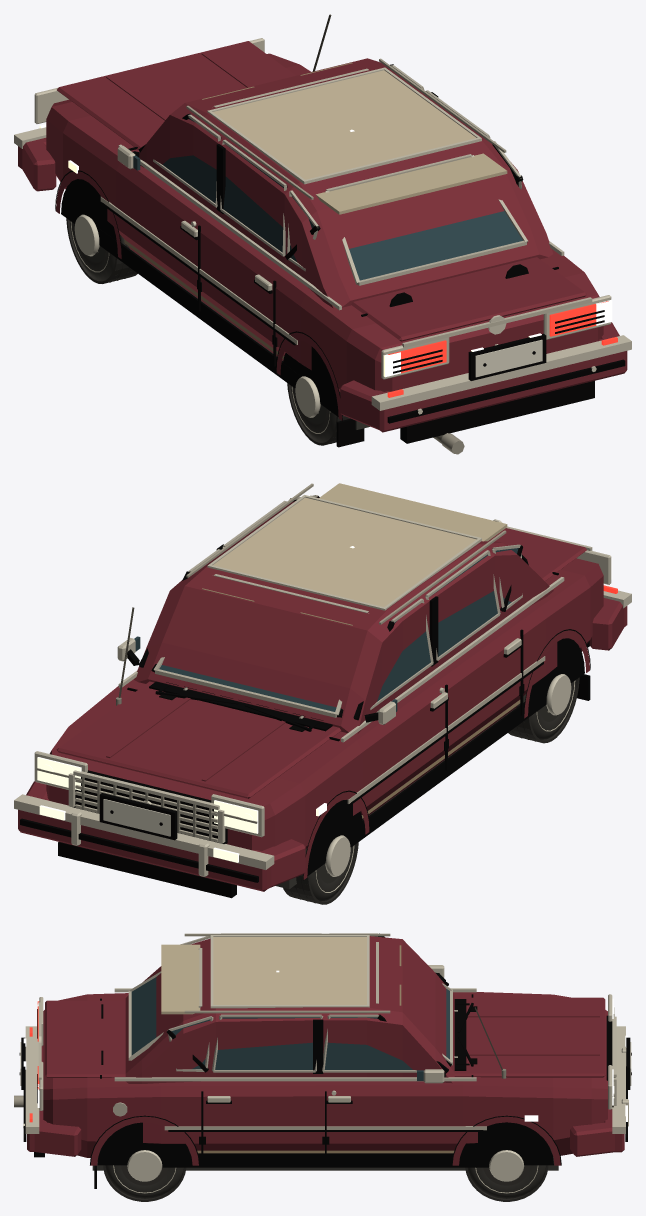
File: car.glb
3 views of the same model, one above another, from view 1: azimuth 30°, elevation 25°; view 2: azimuth 150°, elevation 25°; view 3: azimuth 270°, elevation 25° (orthographic). The views are drawn at different scales.
Parts seen in each view (by area): view 1: Car_Paint, Car_Chrome, Car_Trim, Car_Glass, Car_Interior, Wheel_FL, Wheel_RL, Car_LightR, Car_Plate, Car_LightW; view 2: Car_Paint, Car_Chrome, Car_Trim, Car_Glass, Car_Interior, Wheel_FL, Car_LightW, Wheel_RL, Car_Plate; view 3: Car_Paint, Car_Trim, Car_Chrome, Car_Glass, Car_Interior, Wheel_FR, Wheel_RR, Car_Under, Car_LightW.
Part boxes in pixels (left/top/right/bottom): Car_Paint: left=18, top=41, right=627, bottom=432; Car_Chrome: left=14, top=38, right=631, bottom=454; Car_Trim: left=55, top=14, right=625, bottom=447; Car_Glass: left=133, top=118, right=522, bottom=280; Car_Interior: left=124, top=62, right=507, bottom=359; Wheel_FL: left=66, top=214, right=137, bottom=283; Wheel_RL: left=287, top=376, right=349, bottom=445; Car_LightR: left=387, top=301, right=617, bottom=397; Car_Plate: left=475, top=339, right=542, bottom=377; Car_LightW: left=39, top=124, right=612, bottom=377; Car_Paint: left=18, top=497, right=627, bottom=891; Car_Chrome: left=14, top=483, right=631, bottom=876; Car_Trim: left=20, top=495, right=590, bottom=898; Car_Glass: left=134, top=548, right=518, bottom=711; Car_Interior: left=202, top=483, right=520, bottom=818; Wheel_FL: left=283, top=835, right=358, bottom=904; Car_LightW: left=37, top=546, right=612, bottom=862; Wheel_RL: left=508, top=674, right=579, bottom=743; Car_Plate: left=103, top=799, right=170, bottom=836; Car_Paint: left=27, top=936, right=624, bottom=1165; Car_Trim: left=19, top=933, right=631, bottom=1188; Car_Chrome: left=14, top=933, right=628, bottom=1133; Car_Glass: left=131, top=936, right=449, bottom=1080; Car_Interior: left=161, top=944, right=454, bottom=1153; Wheel_FR: left=461, top=1147, right=553, bottom=1201; Wheel_RR: left=97, top=1148, right=189, bottom=1201; Car_Under: left=92, top=1157, right=558, bottom=1170; Car_LightW: left=23, top=970, right=627, bottom=1121.
Bounding box in the file's own units: 1.88 × 1.5 × 4.51.
